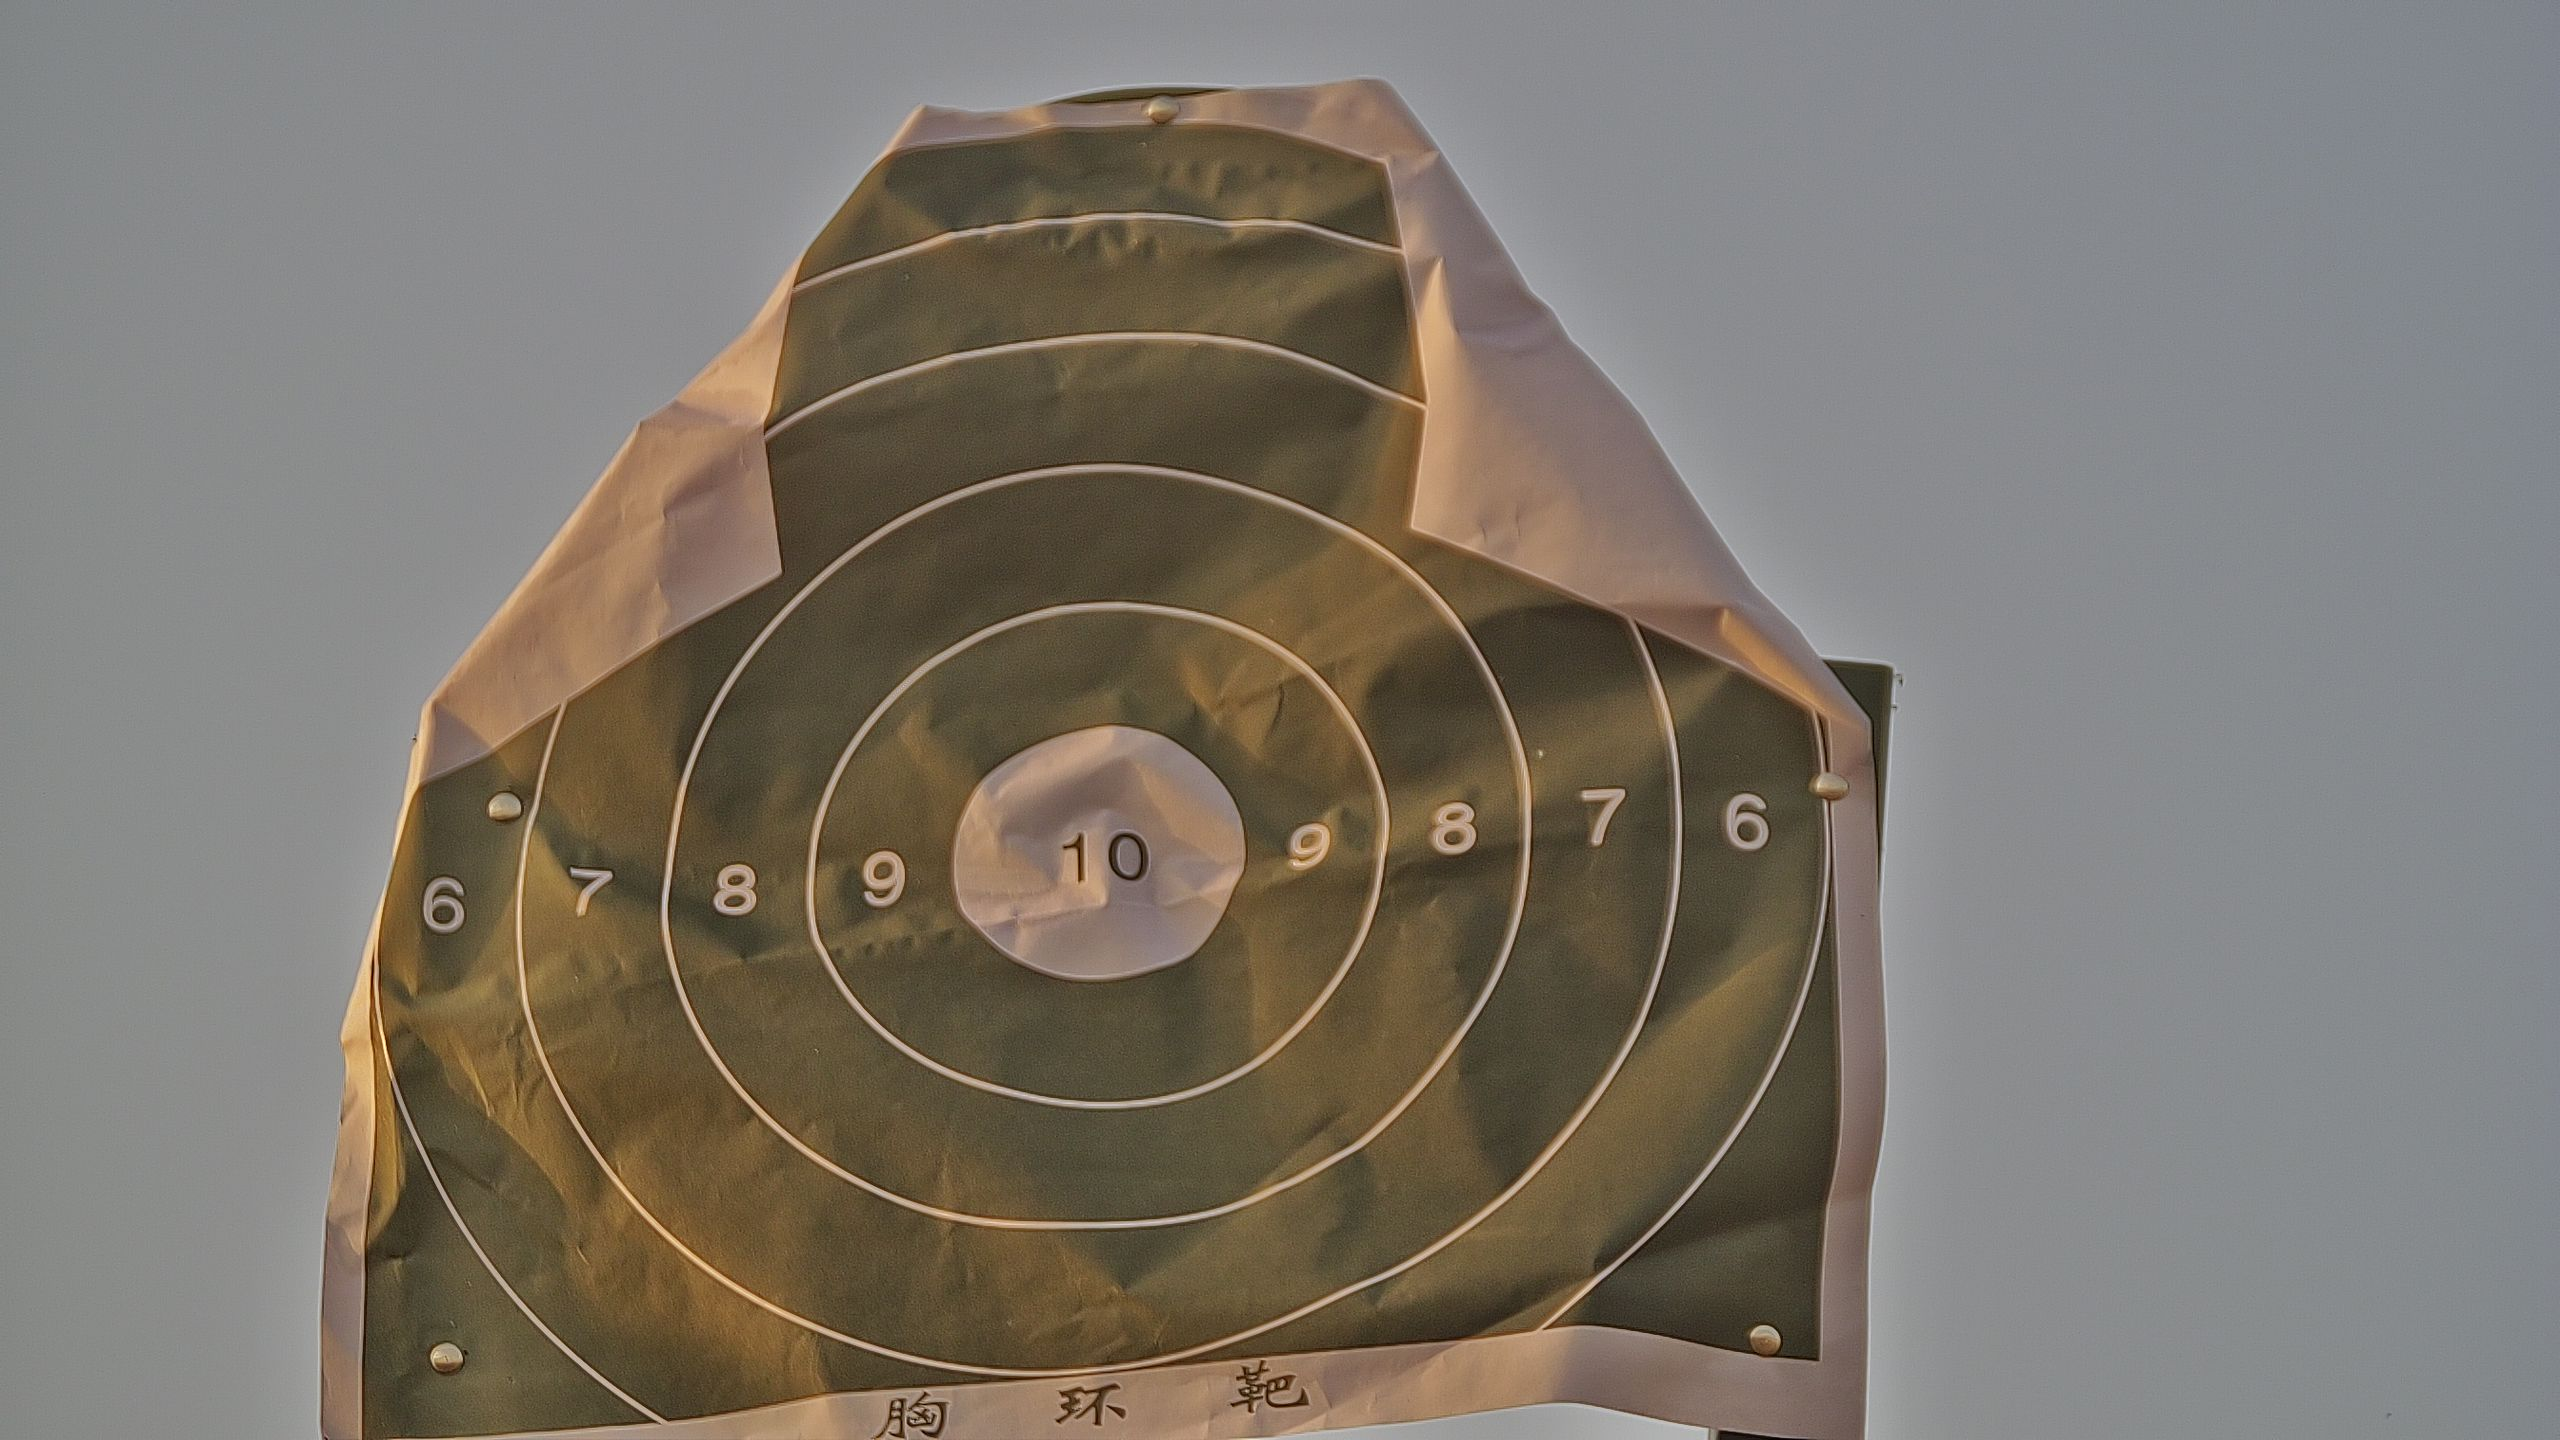target: (355, 127, 1851, 1440)
ten: (949, 730, 1252, 985)
